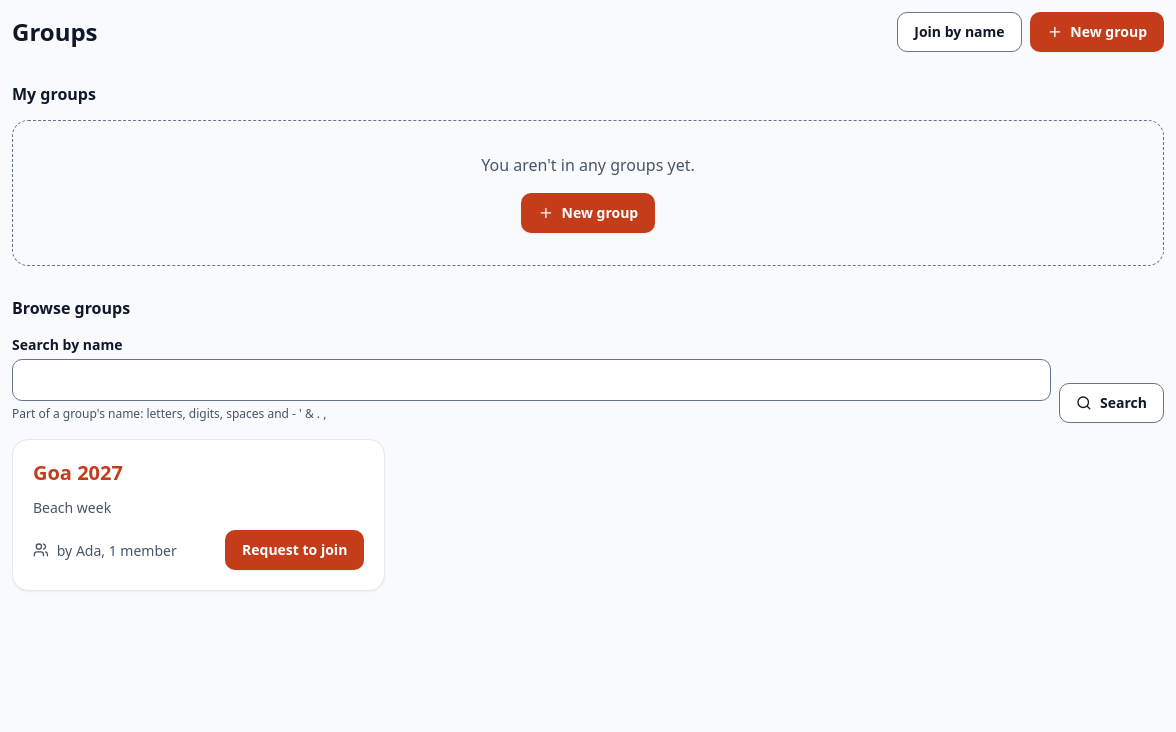
Test case: asking to join › asks from the browse list and shows the request as pending
The width and height of the screenshot is (1176, 732).
Click the button with aria-label "Request to join Goa 2027". click: coordinates (295, 550)
box: top-left (225, 530), bottom-right (364, 570)
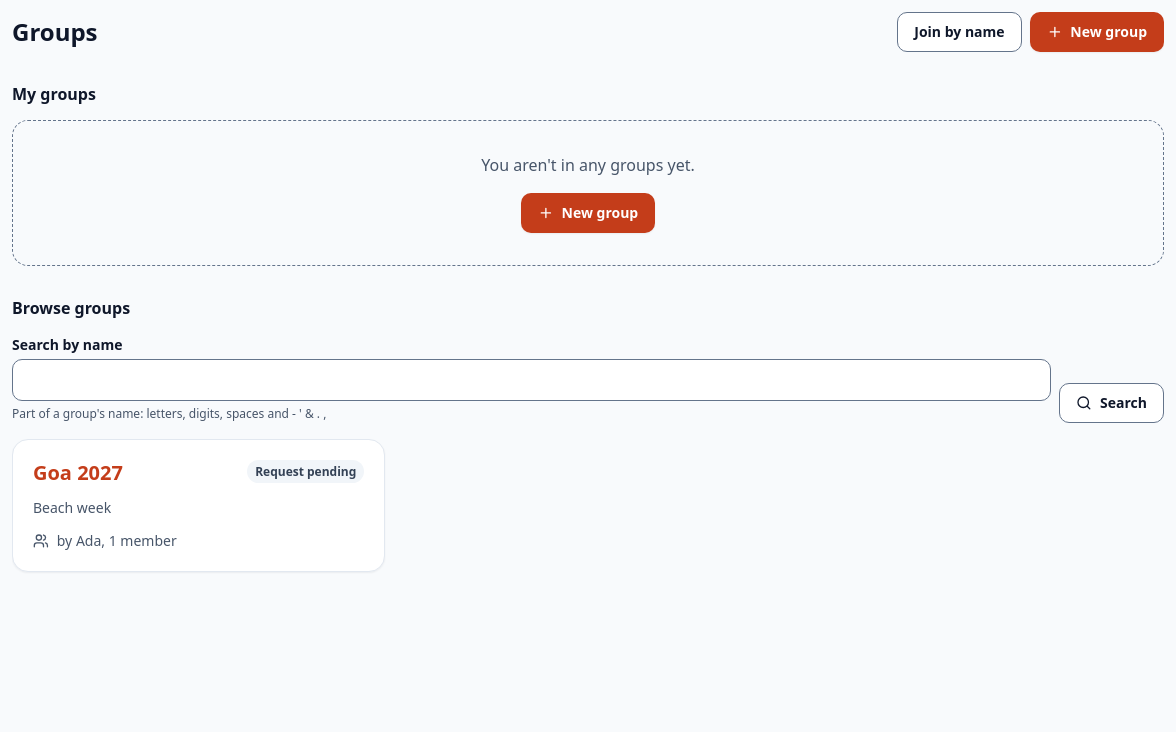
Expected: the text "Request pending" is shown, top-left (247, 460), bottom-right (364, 483)
